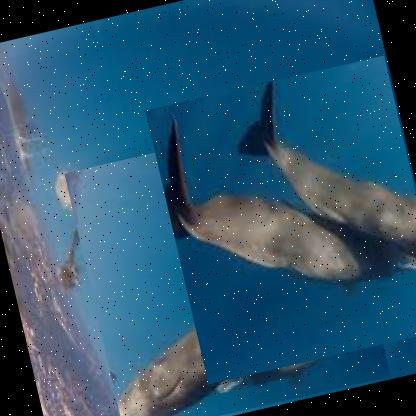sperm_whale: (63, 112, 391, 415), (144, 55, 415, 386)
